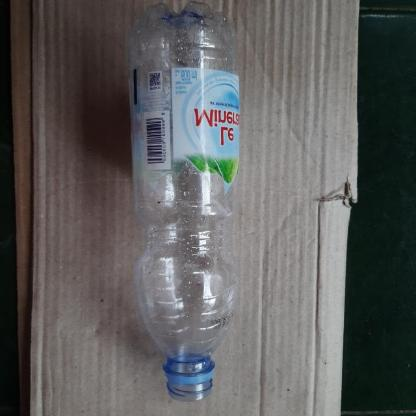Plastic Bottle: (123, 6, 249, 404)
